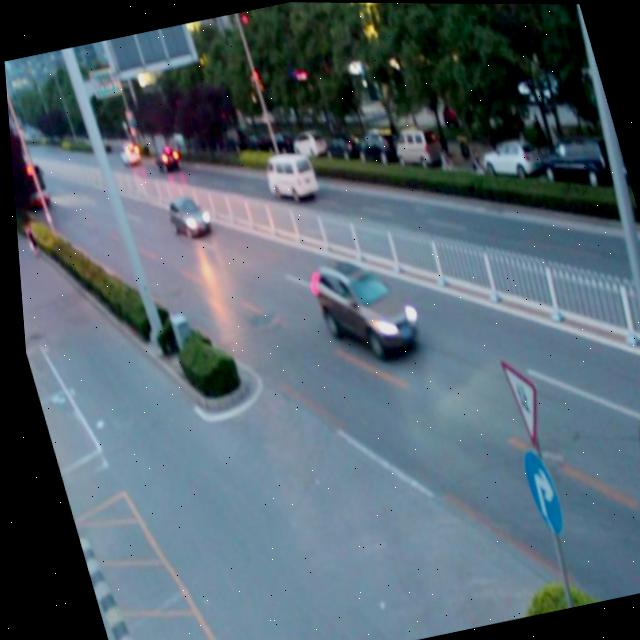car: (299, 248, 421, 373), (161, 191, 210, 243), (148, 142, 174, 171)
truck: (255, 148, 318, 208)
